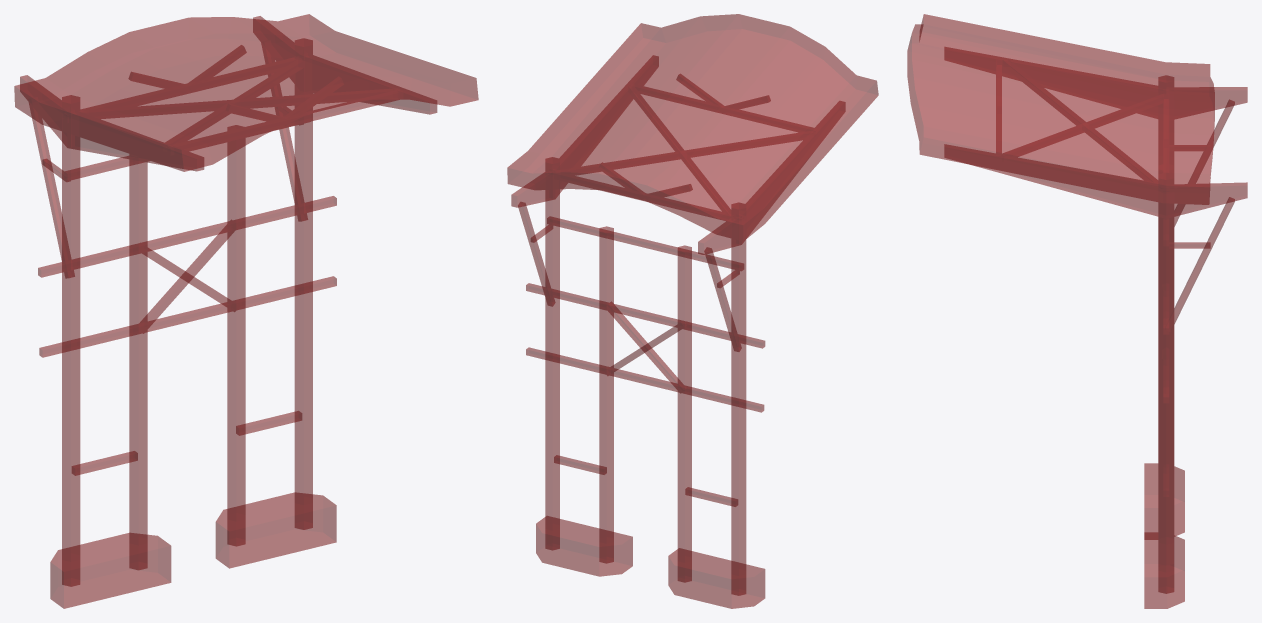
Rendered from SM_Bld_Grandstand_Roof_01_Collision.fbx.
3 renders of one model, left to right at view 1: azimuth 30°, elevation 25°; view 2: azimuth 150°, elevation 25°; view 3: azimuth 270°, elevation 25°, orthographic. The views are drawn at different scales.
Visible parts, largest first — view 1: SM_Bld_Grandstand_Roof_01_Collision; view 2: SM_Bld_Grandstand_Roof_01_Collision; view 3: SM_Bld_Grandstand_Roof_01_Collision.
Boxes of the visible parts, x1,y1,x2,y2 form: SM_Bld_Grandstand_Roof_01_Collision: [14, 14, 478, 608]; SM_Bld_Grandstand_Roof_01_Collision: [507, 14, 878, 608]; SM_Bld_Grandstand_Roof_01_Collision: [907, 14, 1247, 608].
Bounding box in the file's own units: 1253 × 2390 × 1458.
